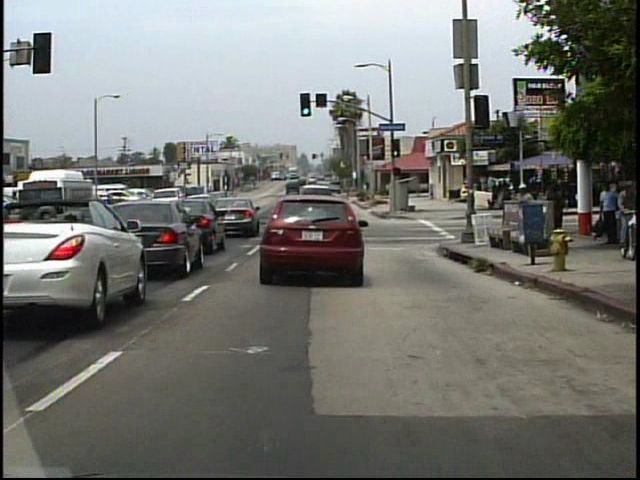person: (512, 179, 535, 240), (596, 182, 617, 248), (548, 177, 568, 245), (614, 179, 635, 240)
